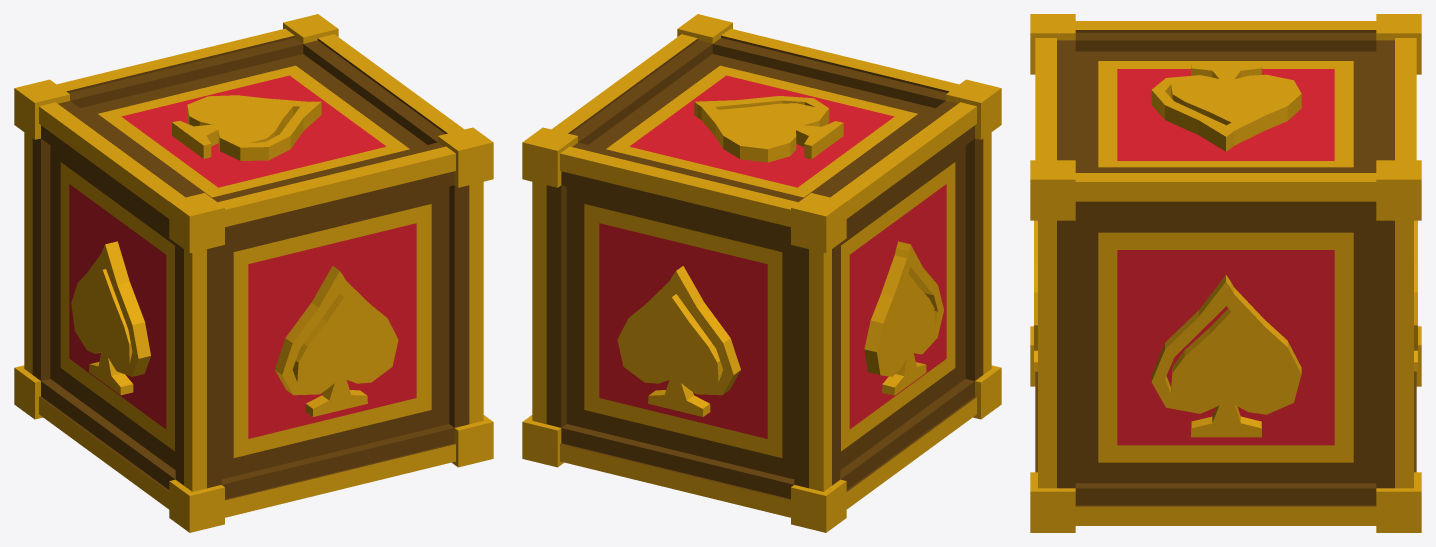
File: Boxsmallv02.fbx
The picture shows the model from 3 angles, left to right: view 1: azimuth 30°, elevation 25°; view 2: azimuth 150°, elevation 25°; view 3: azimuth 270°, elevation 25°; orthographic projection. The views are drawn at different scales.
Visible parts, largest first — view 1: Text.005; view 2: Text.005; view 3: Text.005.
Boxes of the visible parts, box(x1,y1,x2,y2) form: Text.005: box(14, 14, 493, 532); Text.005: box(522, 14, 1001, 532); Text.005: box(1030, 14, 1421, 532).
Bounding box in the file's own units: 1 × 0.9992 × 1.
